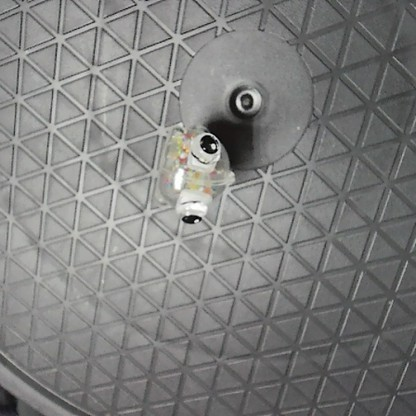whitefish: (153, 121, 237, 228)
